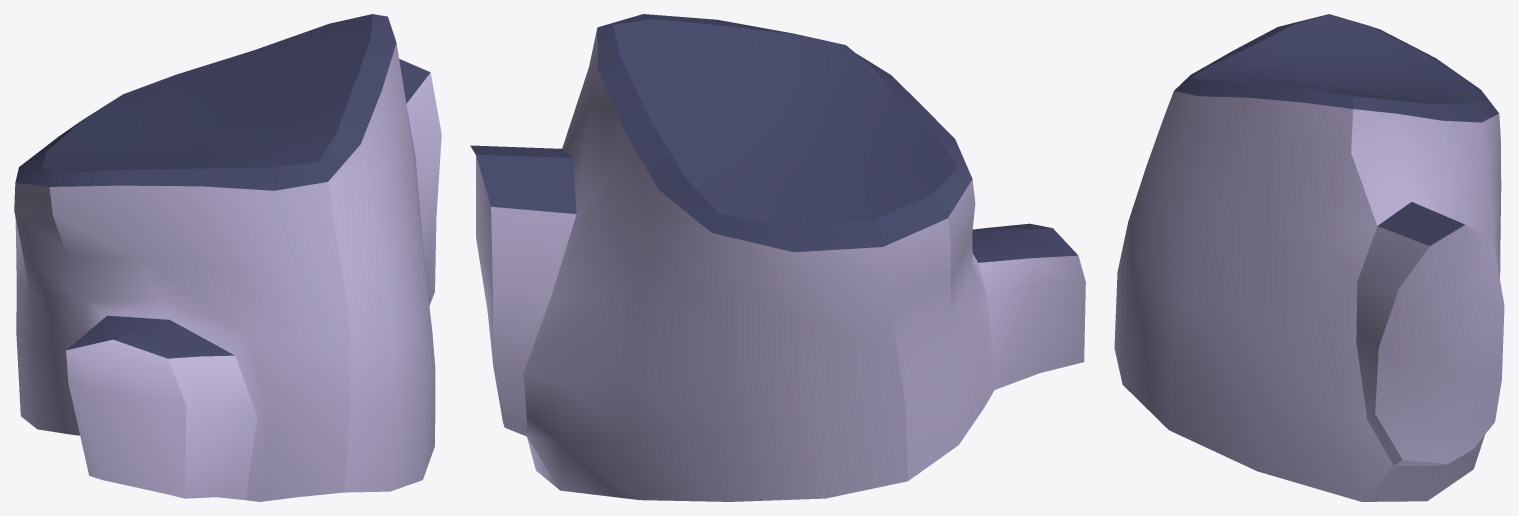
File: SM_Prop_Rock2.fbx
3 renders of one model, left to right at view 1: azimuth 30°, elevation 25°; view 2: azimuth 150°, elevation 25°; view 3: azimuth 270°, elevation 25°, orthographic. The views are drawn at different scales.
Visible parts, largest first — view 1: SM_Prop_Rock2; view 2: SM_Prop_Rock2; view 3: SM_Prop_Rock2.
Boxes of the visible parts, bbox=[...] form: SM_Prop_Rock2: bbox=[14, 14, 441, 501]; SM_Prop_Rock2: bbox=[470, 14, 1085, 501]; SM_Prop_Rock2: bbox=[1114, 14, 1504, 501].
Size of the model in its own units: 193 by 159 by 145.
